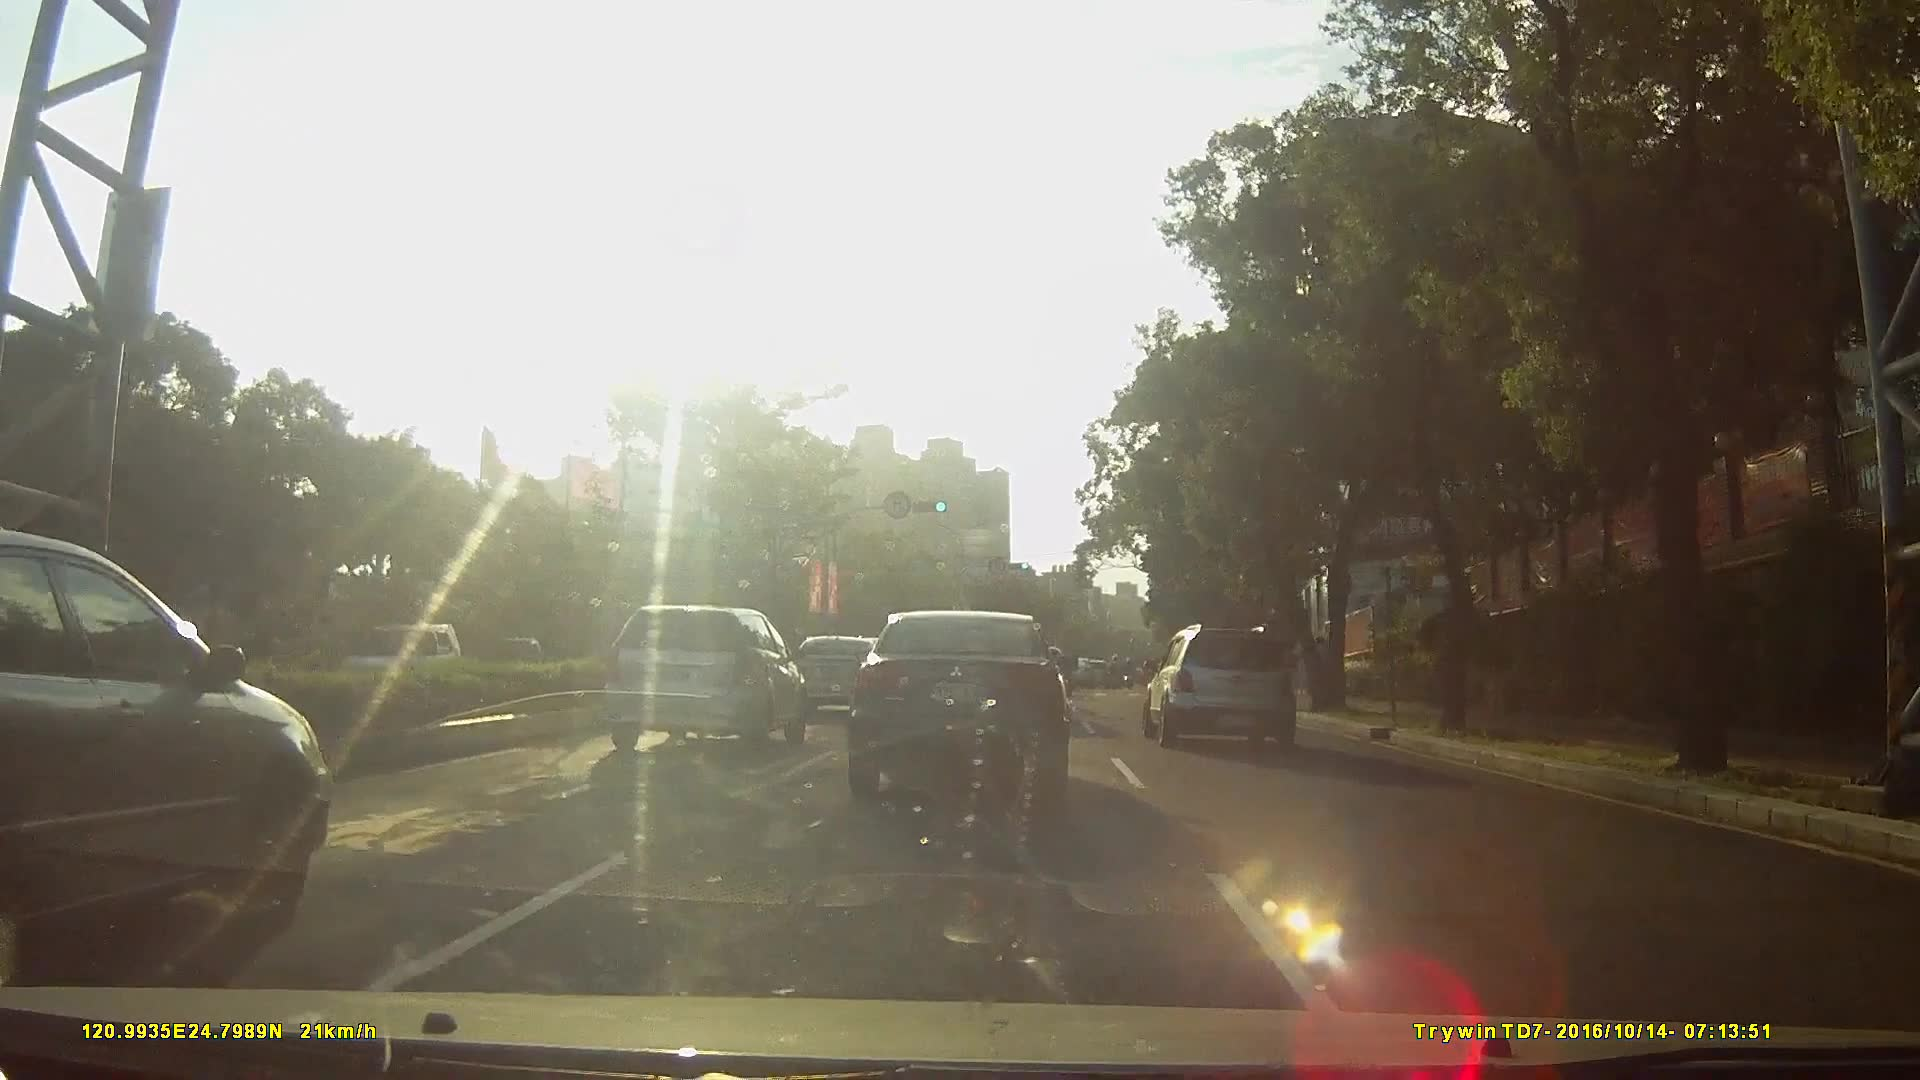vehicle: (1, 530, 355, 994), (847, 615, 1071, 814), (596, 607, 806, 754), (1139, 618, 1308, 746), (332, 624, 471, 702), (1075, 659, 1109, 690)
